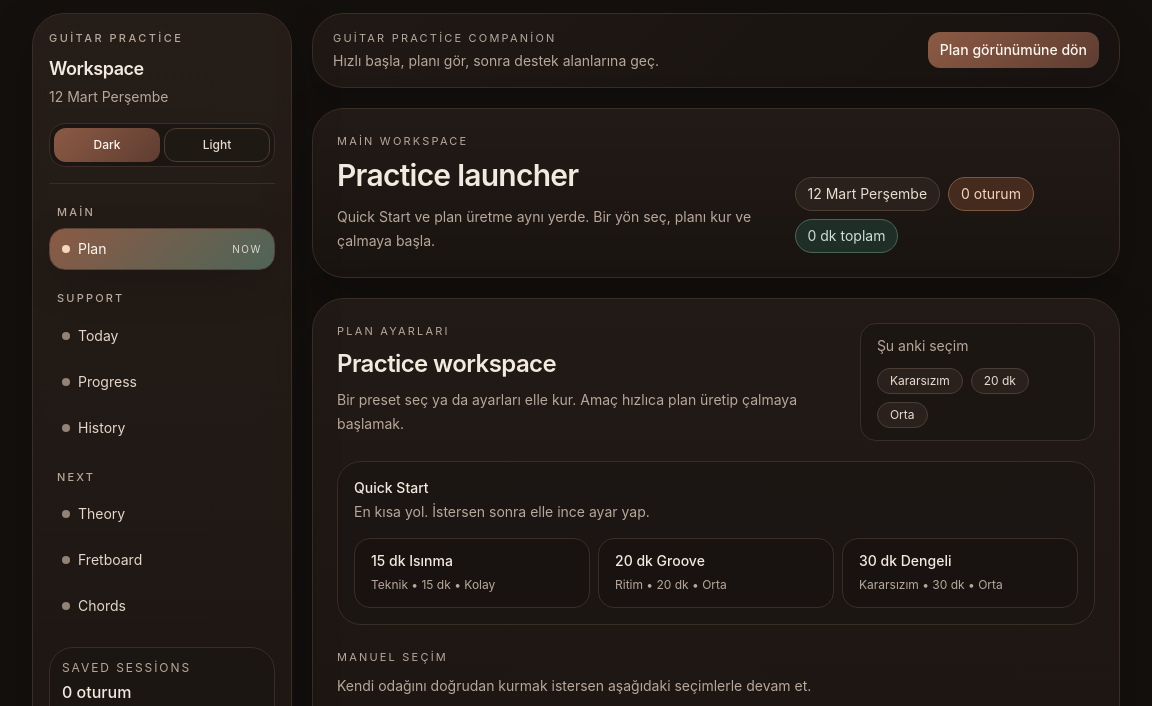
Test case: persists theme selection and opens the chord finder workspace
Click the button "Light" at (217, 144), box x1=164 y1=128 x2=270 y2=162
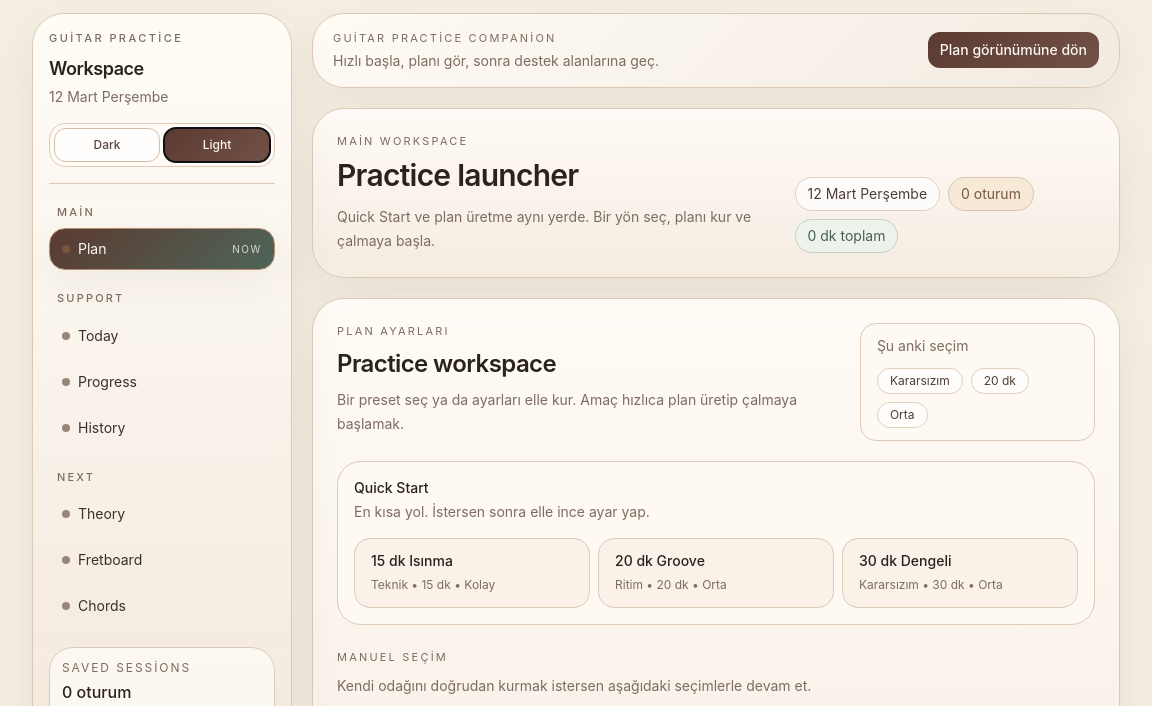
Click the button "Chords" at (162, 606), box x1=49 y1=585 x2=275 y2=627
(page scrolled)
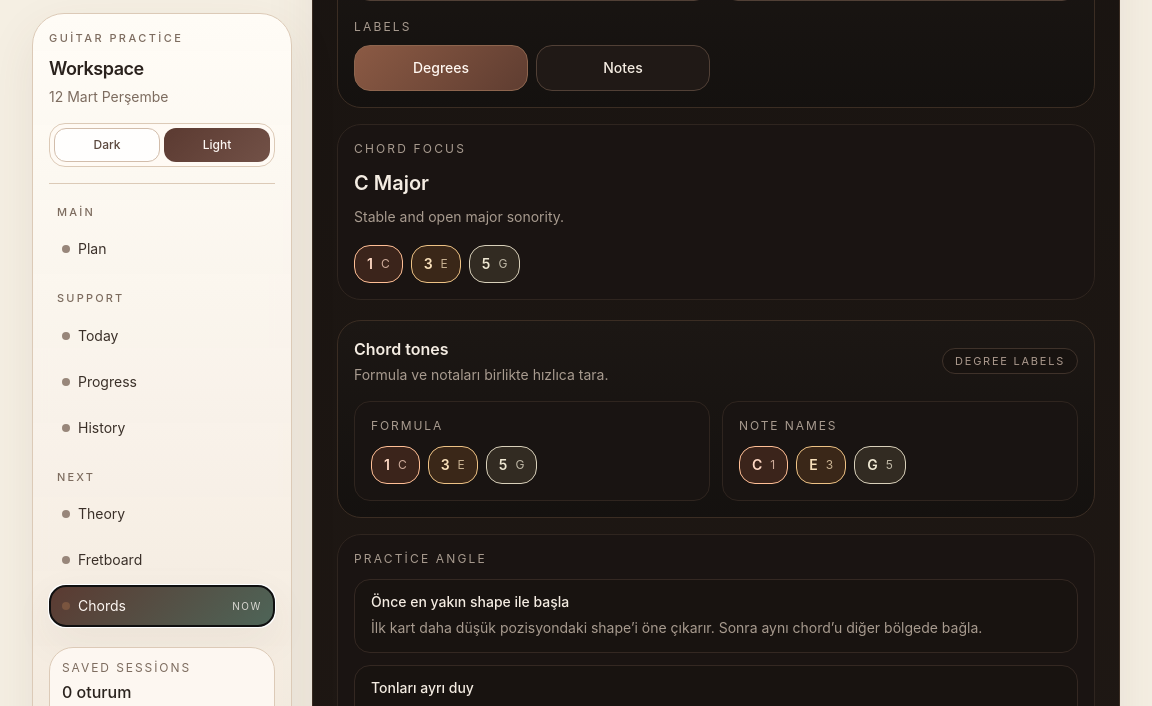
Expected: the text "Chord tones" is shown, x1=354 y1=339 x2=449 y2=359
